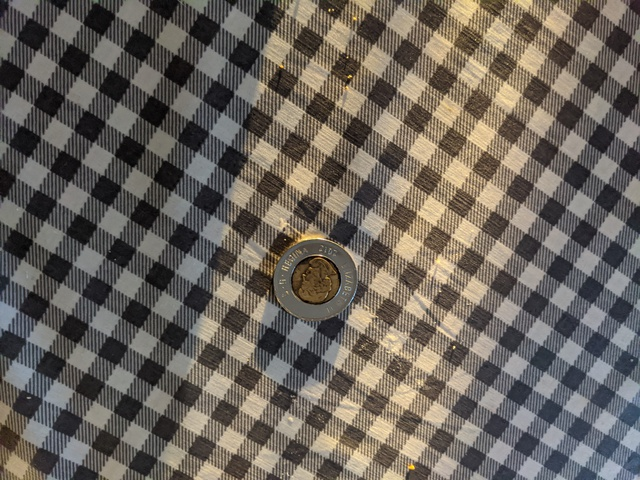twonie: (271, 229, 365, 329)
